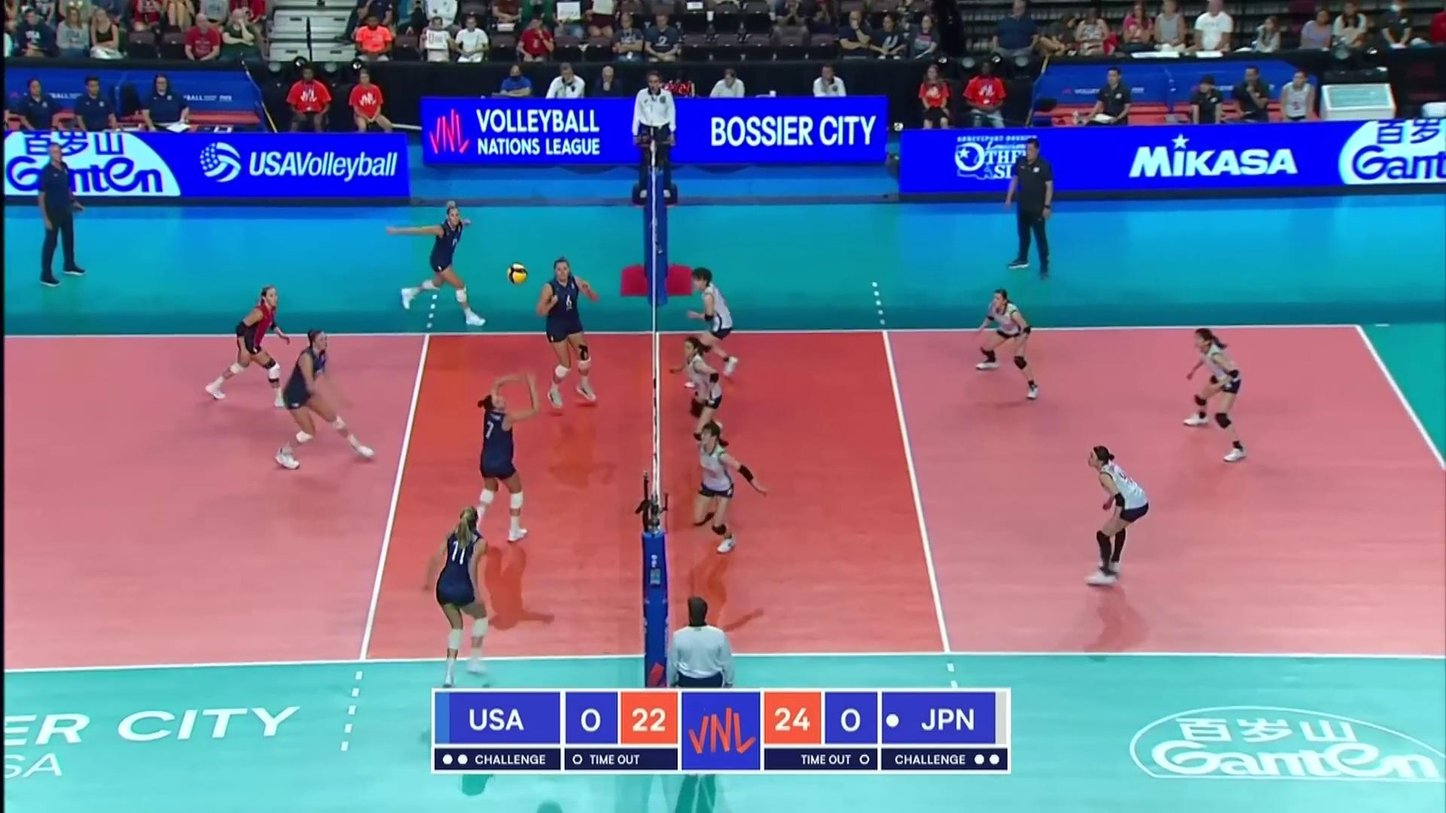player: (276, 332, 376, 469), (460, 375, 536, 542), (425, 507, 491, 688), (393, 203, 488, 326), (209, 285, 293, 406), (535, 256, 601, 408), (693, 424, 768, 554), (1087, 446, 1151, 586), (1188, 327, 1250, 460), (975, 289, 1041, 401), (683, 338, 731, 475), (687, 267, 739, 389)
refree: (665, 598, 738, 687), (631, 71, 677, 194)
